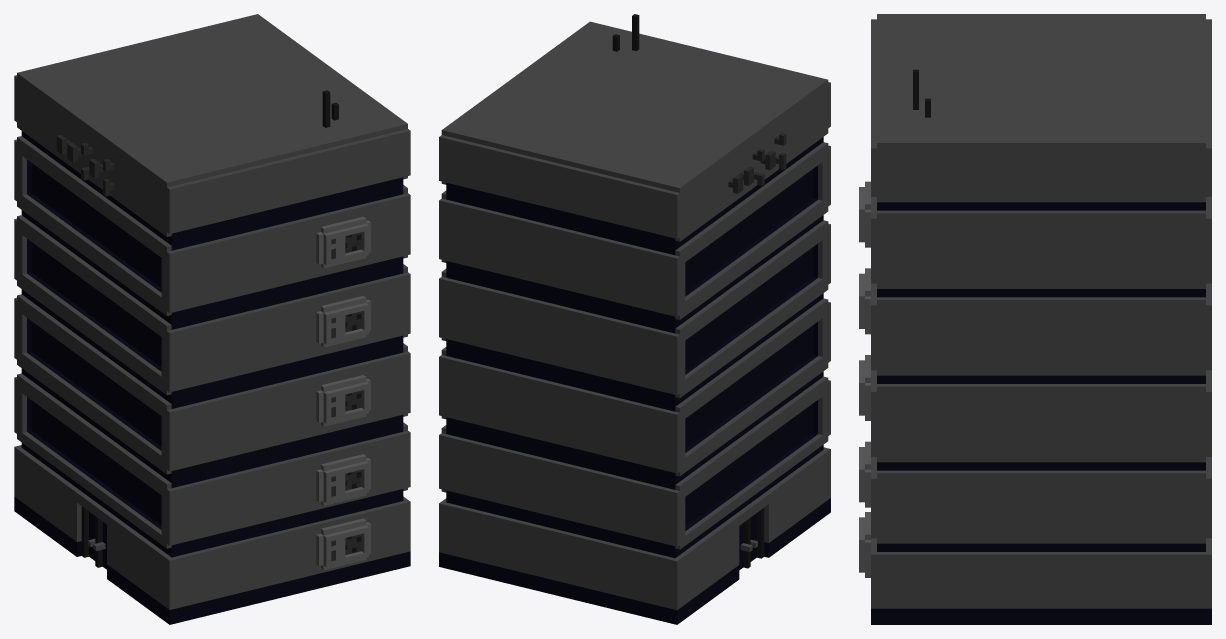
The model's file is NightCity-3-ICGBuilding.obj.
3 views of the same model, side by side, from view 1: azimuth 30°, elevation 25°; view 2: azimuth 150°, elevation 25°; view 3: azimuth 270°, elevation 25° (orthographic). The views are drawn at different scales.
Parts seen in each view (by area): view 1: ICGBuilding; view 2: ICGBuilding; view 3: ICGBuilding.
Part boxes in pixels (x1=…): ICGBuilding: x1=14, y1=14, x2=410, y2=624; ICGBuilding: x1=439, y1=14, x2=830, y2=624; ICGBuilding: x1=859, y1=14, x2=1211, y2=624.
Bounding box in the file's own units: 5.3 × 9.6 × 5.9.
1 material, 1 textured.
